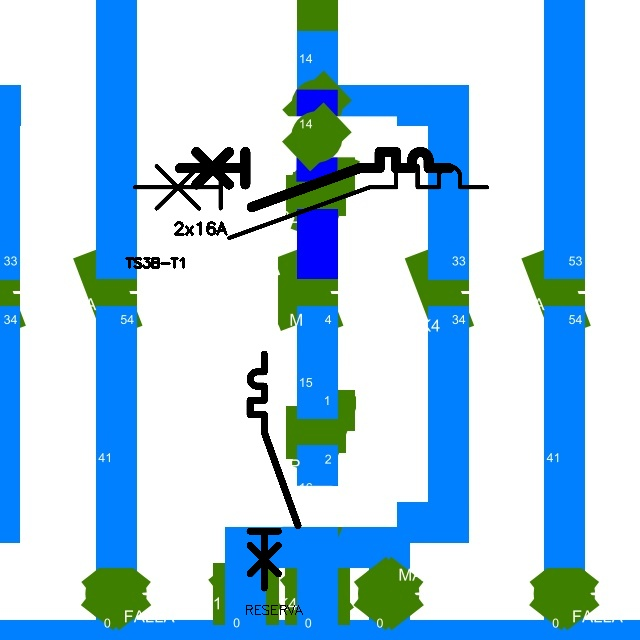interruptor_termomagnetico: (126, 157, 496, 247), (173, 145, 456, 214), (244, 348, 304, 593)
